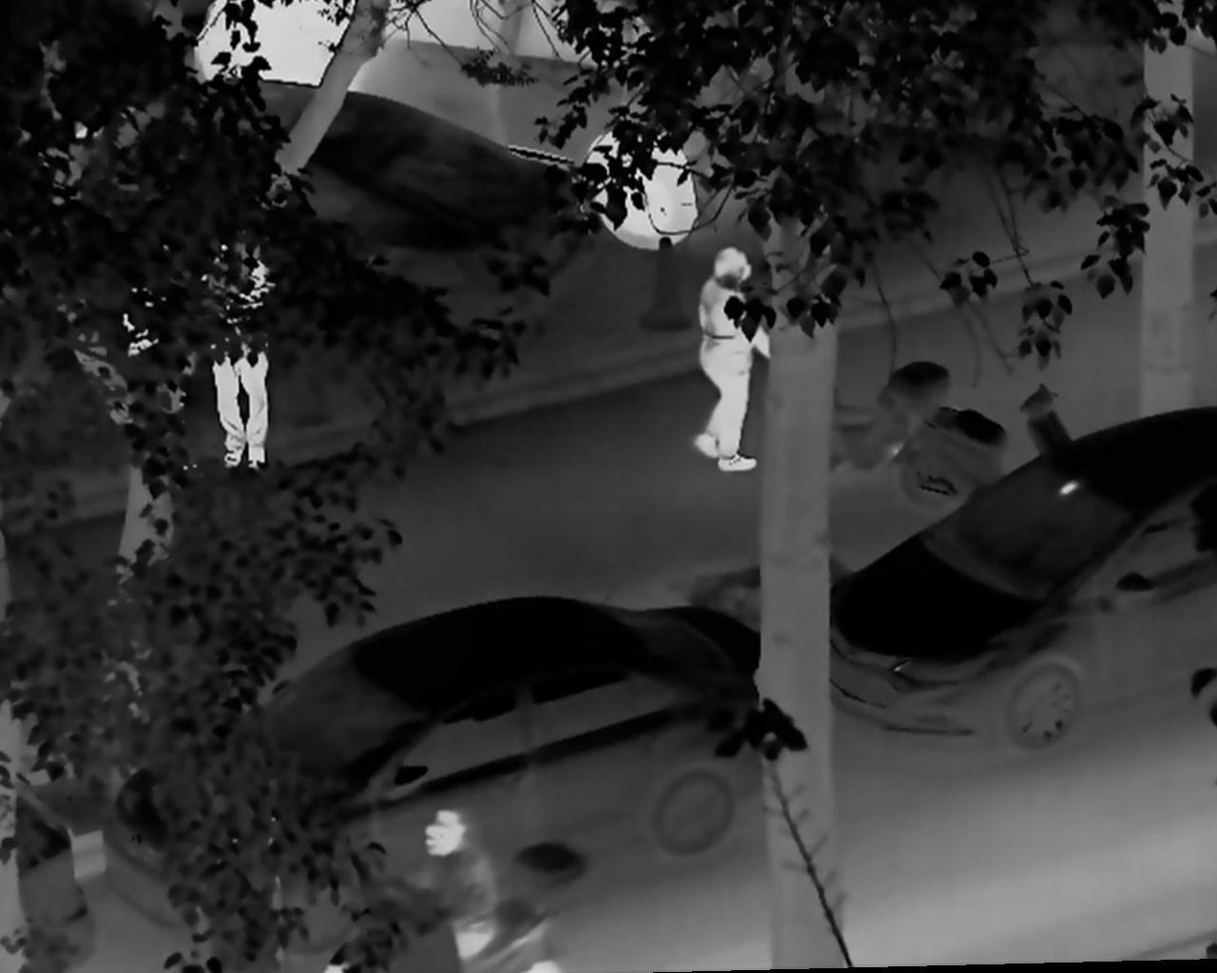person: (197, 220, 280, 479), (686, 241, 777, 476), (396, 810, 504, 959)
